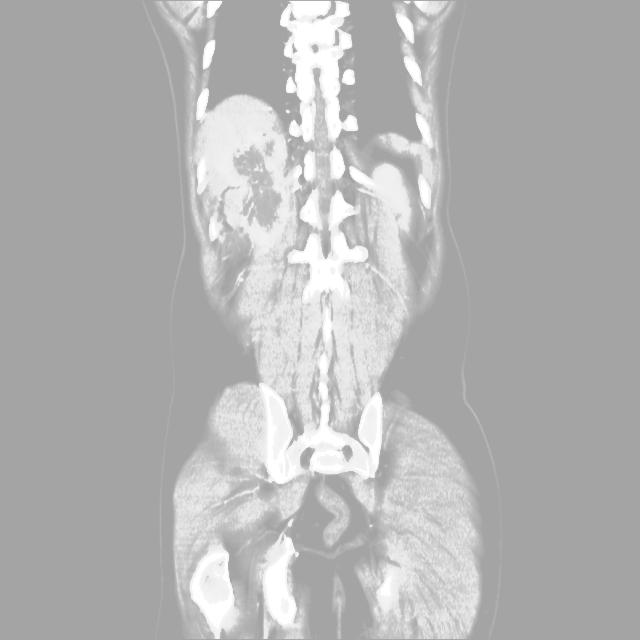TUMOR: (108, 77, 589, 616)
